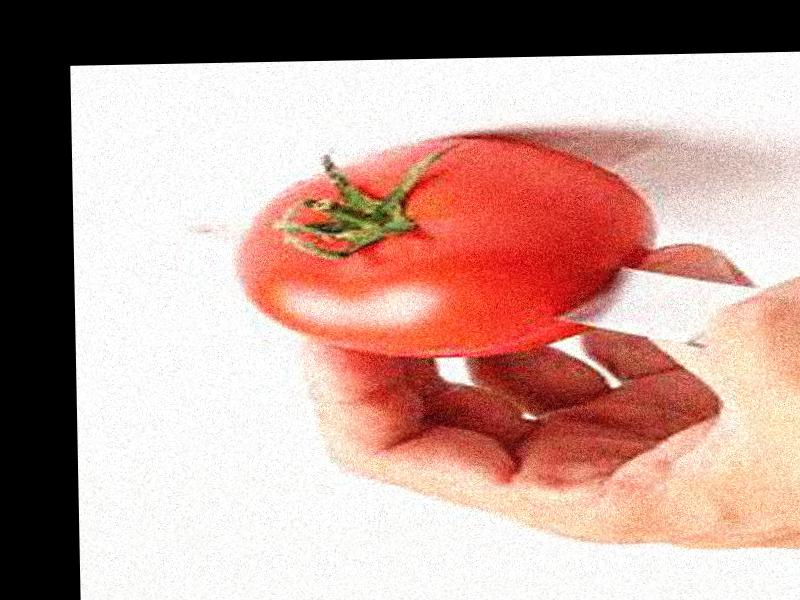Tomato: (241, 134, 656, 363)
